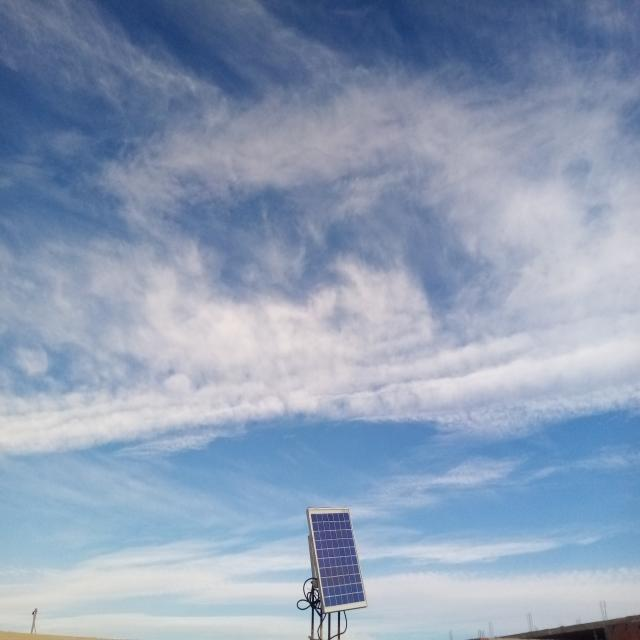no faulty: (309, 508, 368, 612)
